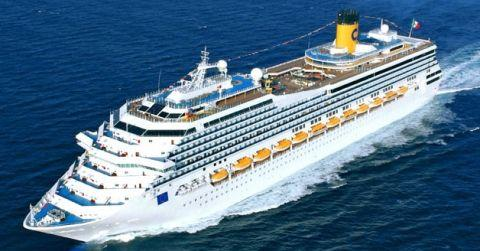youlun: (19, 17, 442, 244)
